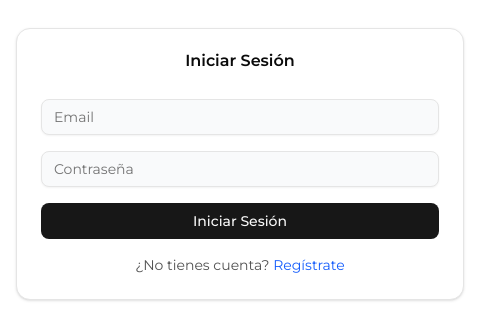
Test: LoginForm › should show validation errors for empty password
The width and height of the screenshot is (481, 330).
Type "test@example.com" into the field with placeholder "Email" at (240, 117), box [41,99,439,135]
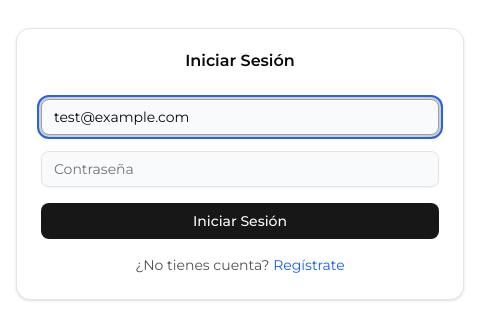
Click the button "Iniciar Sesión" at (240, 221), box [41,203,439,239]
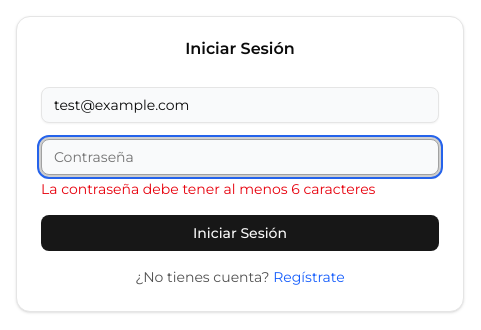
Expected: the text "La contraseña debe tener al menos 6 caracteres" is shown, [41,180,375,198]
